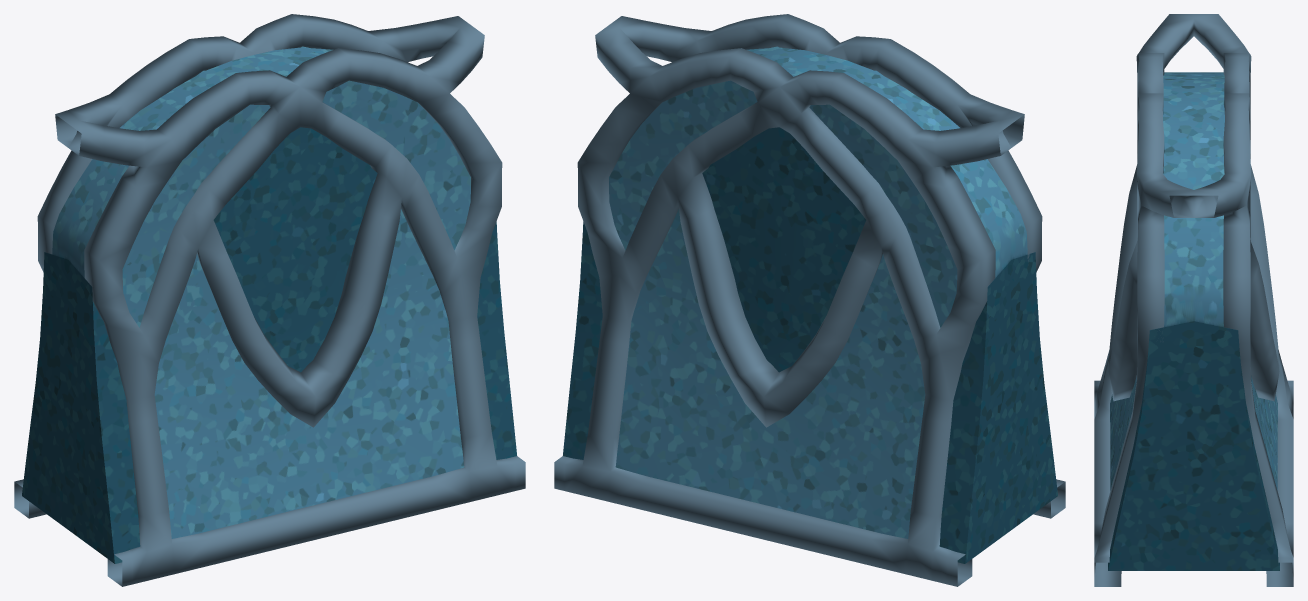
The model's file is LowWall.fbx.
3 renders of one model, left to right at view 1: azimuth 30°, elevation 25°; view 2: azimuth 150°, elevation 25°; view 3: azimuth 270°, elevation 25°, orthographic. The views are drawn at different scales.
Parts seen in each view (by area): view 1: Wall.004, BarsMesh.002; view 2: Wall.004, BarsMesh.002; view 3: Wall.004, BarsMesh.002.
Part boxes in pixels (bbox=[...]): Wall.004: bbox=[22, 46, 516, 563]; BarsMesh.002: bbox=[14, 14, 525, 586]; Wall.004: bbox=[563, 46, 1057, 563]; BarsMesh.002: bbox=[554, 14, 1065, 586]; Wall.004: bbox=[1108, 72, 1279, 570]; BarsMesh.002: bbox=[1094, 14, 1293, 586].
Bounding box in the file's own units: 200 × 213 × 92.67.
Materials: 2 (1 with a texture image).
